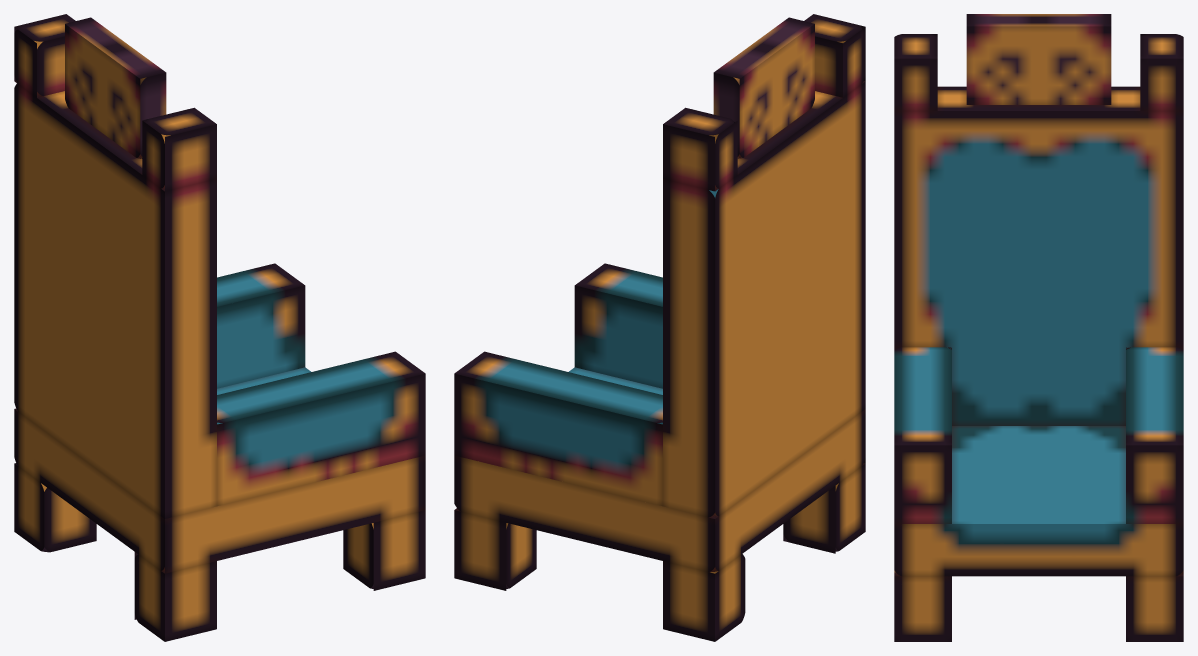
The model's file is TestThrone.obj.
The picture shows the model from 3 angles, left to right: view 1: azimuth 30°, elevation 25°; view 2: azimuth 150°, elevation 25°; view 3: azimuth 270°, elevation 25°; orthographic projection. The views are drawn at different scales.
Visible parts, largest first — view 1: Cube; view 2: Cube; view 3: Cube.
Part boxes in pixels (box(x1,y1,x2,y2)): Cube: box(14, 14, 425, 641); Cube: box(454, 14, 865, 641); Cube: box(894, 14, 1183, 641).
Size of the model in its own units: 2 by 3.9 by 2.
Materials: 1 (1 with a texture image).
